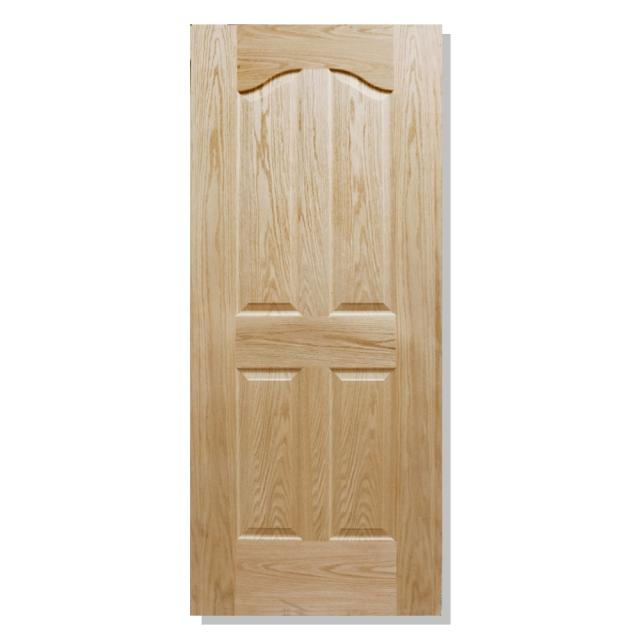door: (189, 24, 445, 618)
